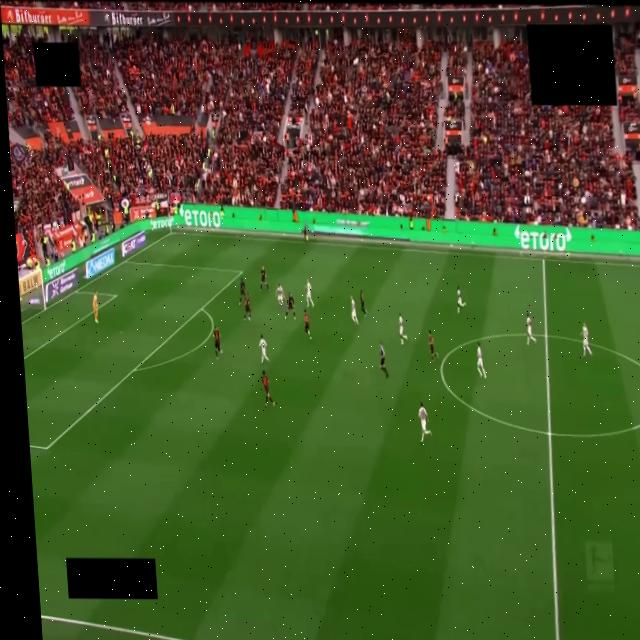player: (418, 403, 431, 442), (262, 371, 274, 407), (582, 324, 592, 357), (477, 343, 486, 378), (428, 331, 438, 360), (380, 343, 388, 378), (526, 314, 535, 345), (285, 292, 295, 319), (399, 314, 407, 345), (457, 286, 466, 313), (92, 291, 99, 324), (260, 266, 269, 291), (260, 335, 268, 363), (214, 327, 221, 358), (304, 310, 311, 339), (351, 297, 358, 325), (239, 279, 246, 305), (306, 280, 313, 306), (244, 293, 250, 321), (276, 284, 284, 305), (360, 291, 366, 315)
